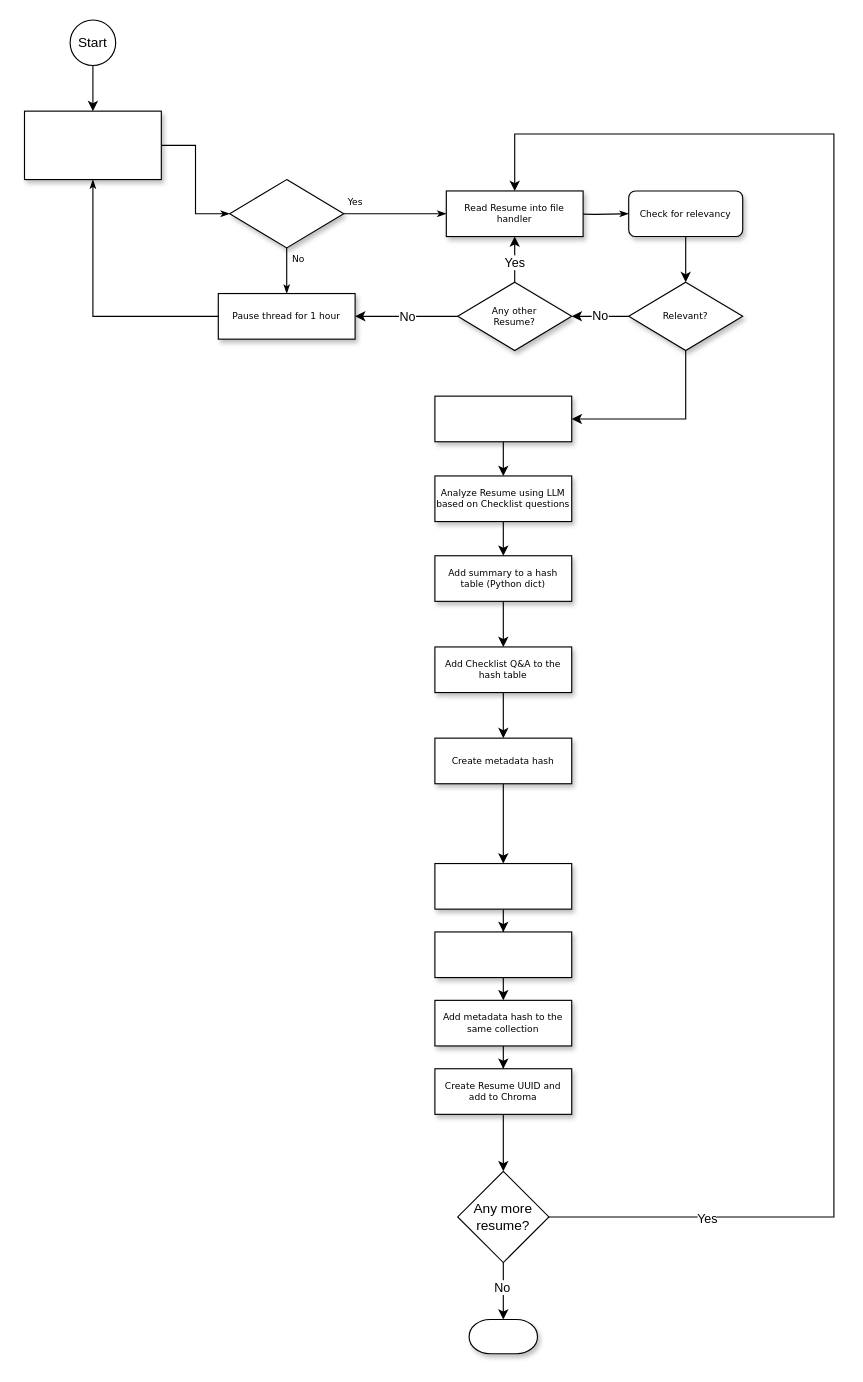
Some shapes in this 863 by 1382 pixel diagram are drawn without their labels. Each missing label, with the centre of its shape:
"Add Summary and Checklist hash to the Chroma collection" goes at (x=504, y=956).
"End" goes at (x=503, y=1338).
"Get basic summary of the resume and metadata using LLM Inference" goes at (x=504, y=420).
"Initialize a new Chroma Collection" goes at (x=504, y=887).
"New Resumes Found?" goes at (x=287, y=215).
"Scan for new resumes in the Source Directory" goes at (x=93, y=146).
